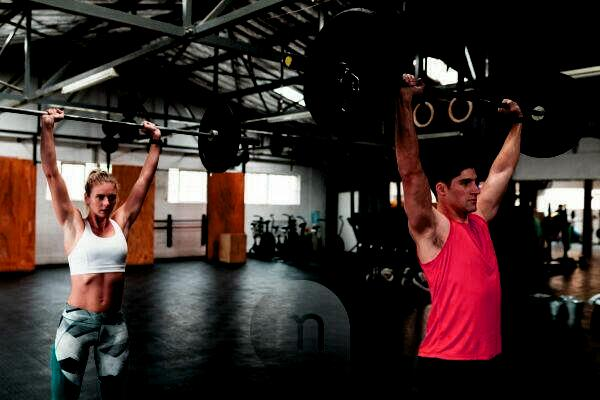Barbell: (274, 44, 300, 70)
